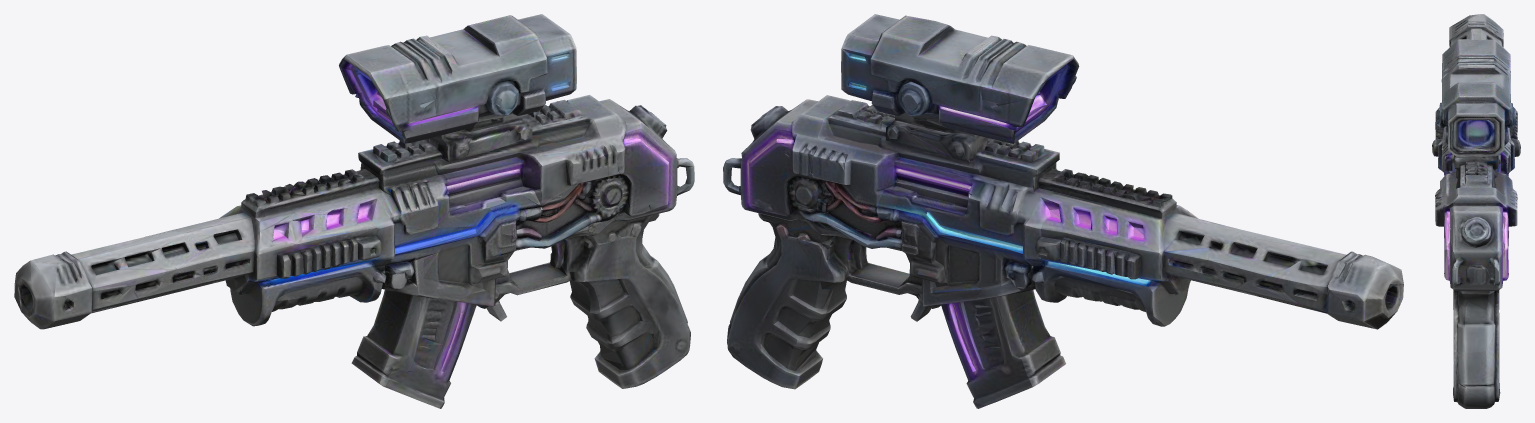
Rendered from laser_roxo.glb.
3 renders of one model, left to right at view 1: azimuth 30°, elevation 25°; view 2: azimuth 150°, elevation 25°; view 3: azimuth 270°, elevation 25°, orthographic. The views are drawn at different scales.
Parts seen in each view (by area): view 1: output_unwrapped; view 2: output_unwrapped; view 3: output_unwrapped.
Part boxes in pixels (x1,y1,x2,y2): output_unwrapped: [14, 14, 694, 408]; output_unwrapped: [723, 14, 1403, 408]; output_unwrapped: [1432, 14, 1520, 408].
Bounding box in the file's own units: 1.9 × 1.05 × 0.3129.
1 material, 1 textured.
